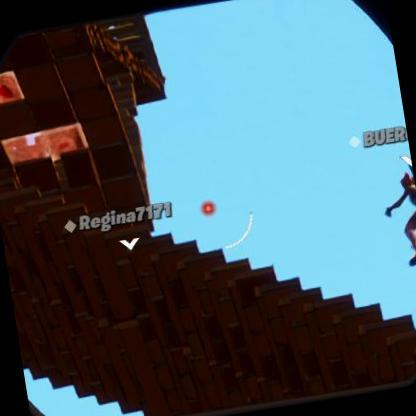person: (384, 169, 416, 262)
